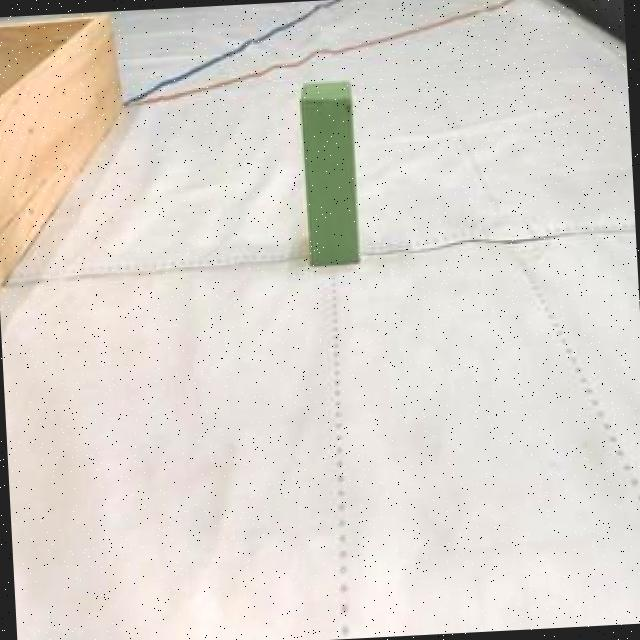greenbox: (296, 74, 362, 269)
